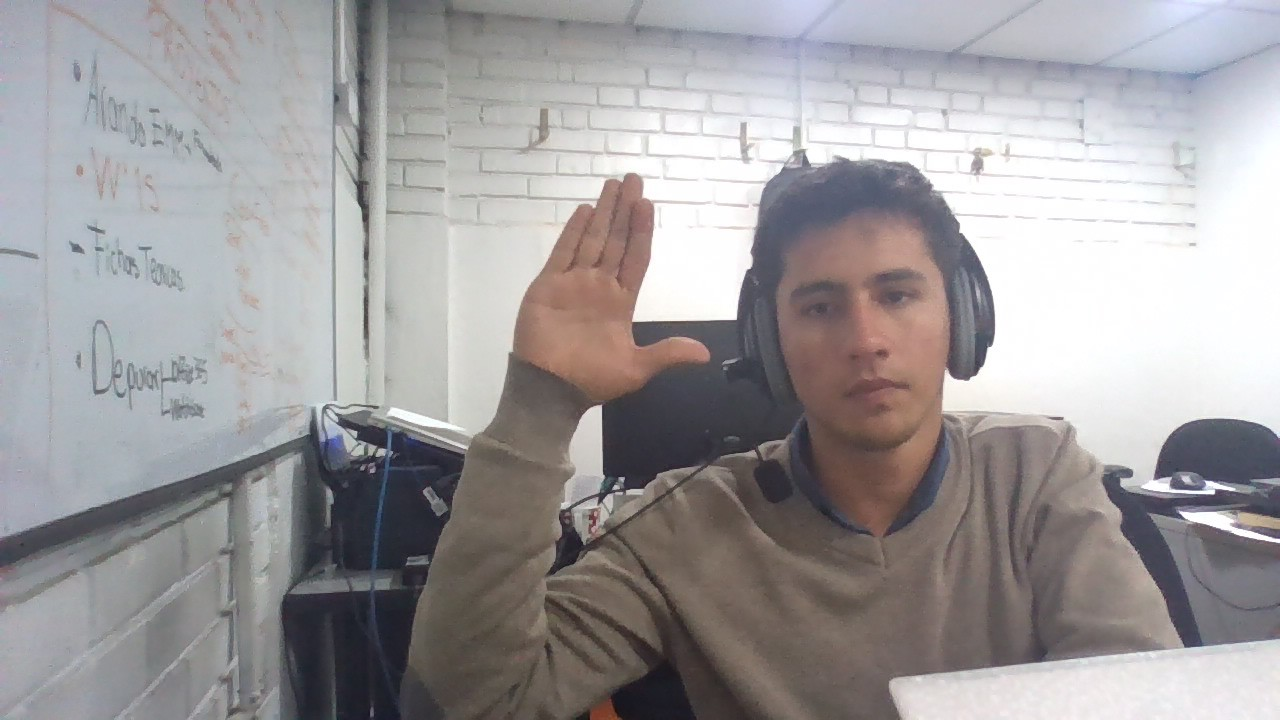hola: (511, 168, 712, 399)
